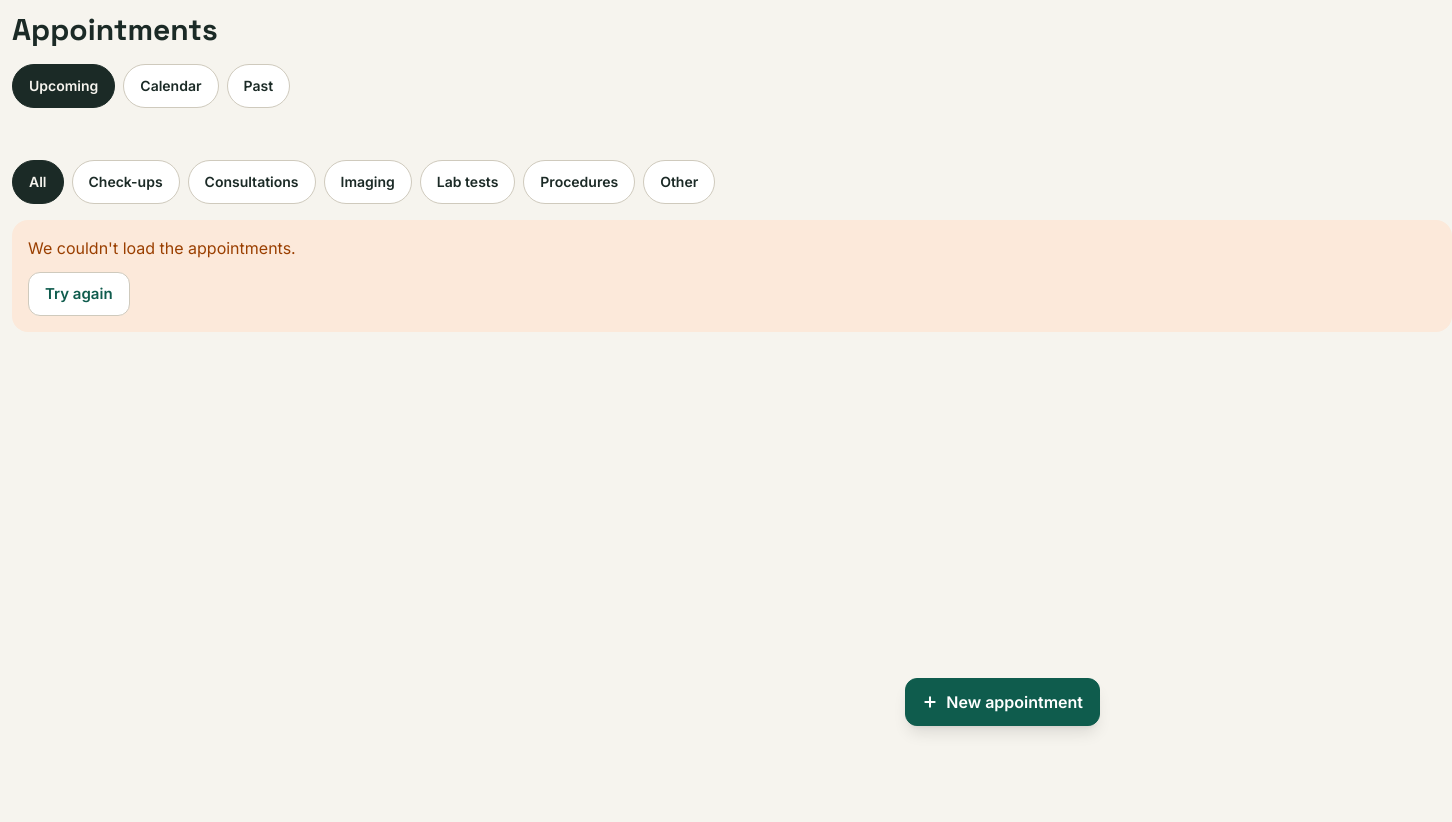
Test case: upcoming appointments › shows a friendly error and lets you retry
The width and height of the screenshot is (1452, 822).
Check: the text "We couldn't load the appointments." is shown, box [28,238,296,258]
Click the button "Try again": (79, 294) [28,272,130,316]
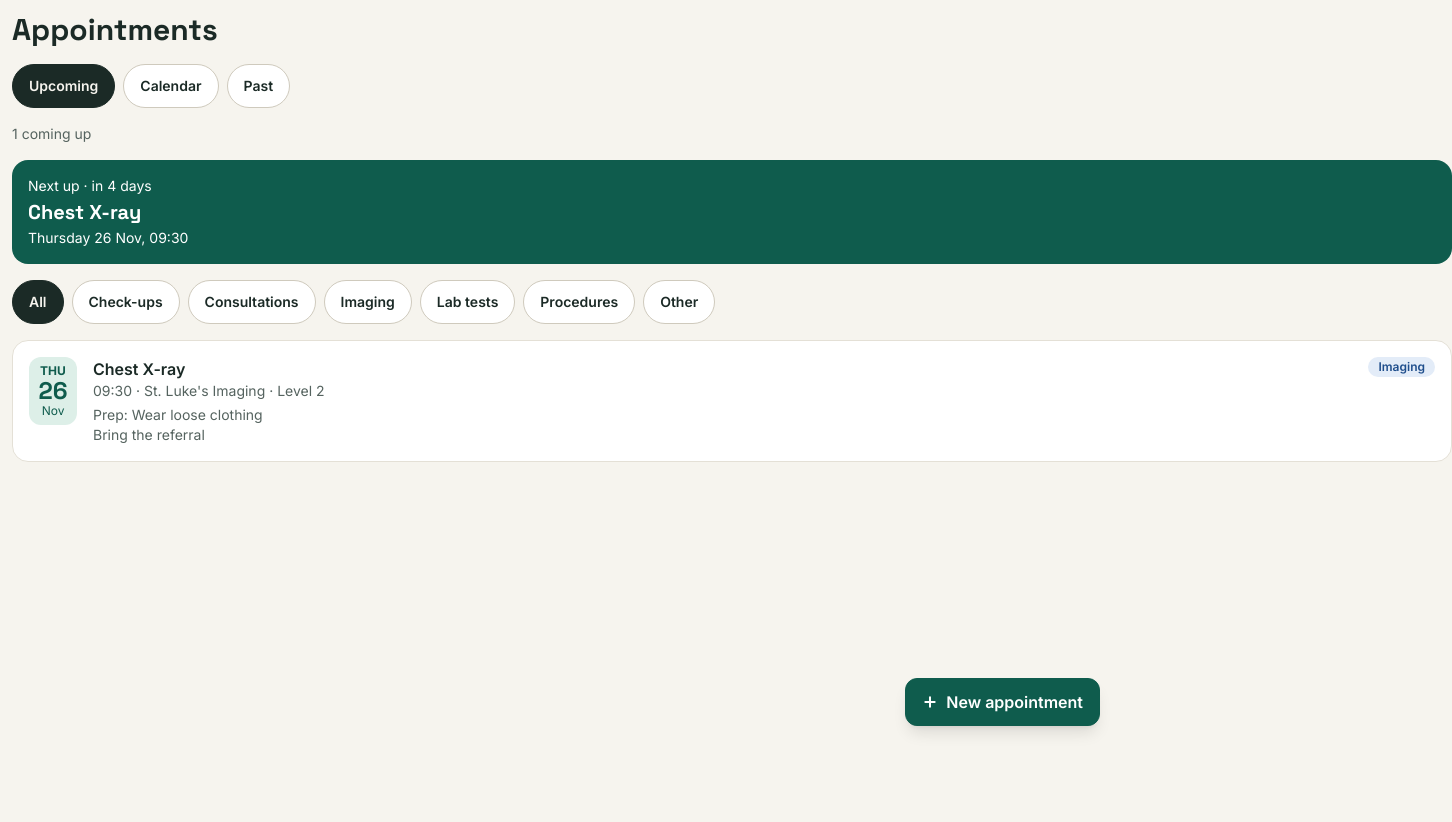
Check: the link "Chest X-ray" is shown, box [93,357,185,381]
